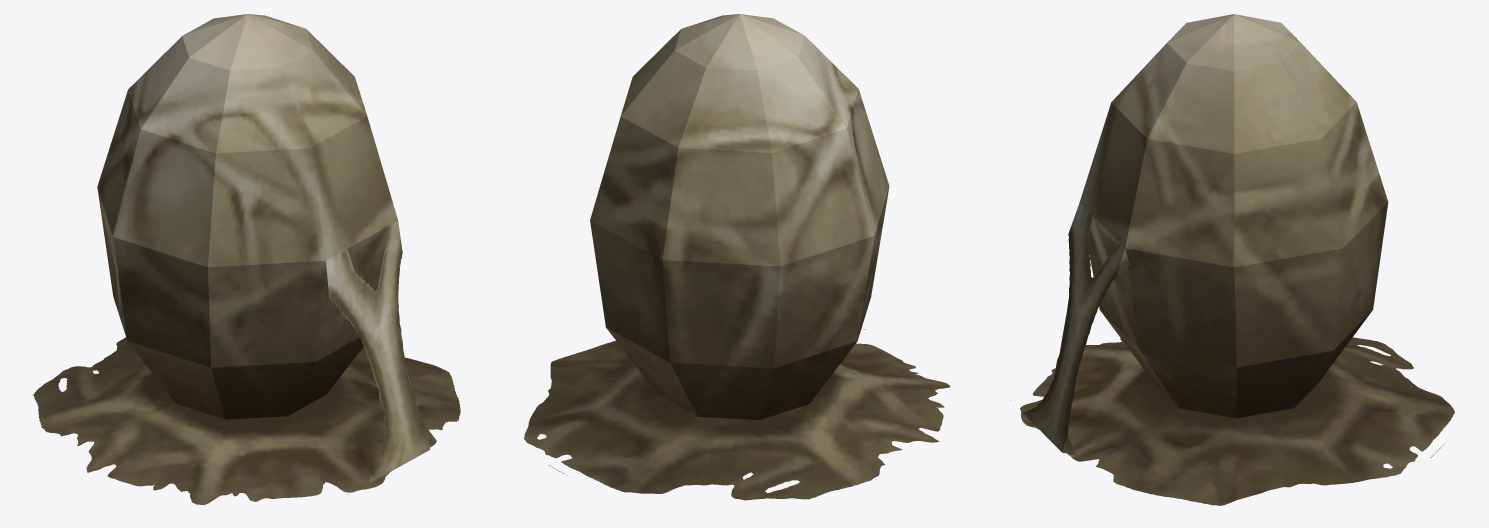
The model's file is spider_egg_08.fbx.
The picture shows the model from 3 angles, left to right: view 1: azimuth 30°, elevation 25°; view 2: azimuth 150°, elevation 25°; view 3: azimuth 270°, elevation 25°; orthographic projection.
Parts seen in each view (by area): view 1: obj0.352; view 2: obj0.352; view 3: obj0.352.
Boxes of the visible parts, x1,y1,x2,y2 form: obj0.352: [33, 14, 460, 504]; obj0.352: [524, 14, 950, 500]; obj0.352: [1010, 14, 1454, 505].
Bounding box in the file's own units: 1.39 × 1.29 × 1.39.
